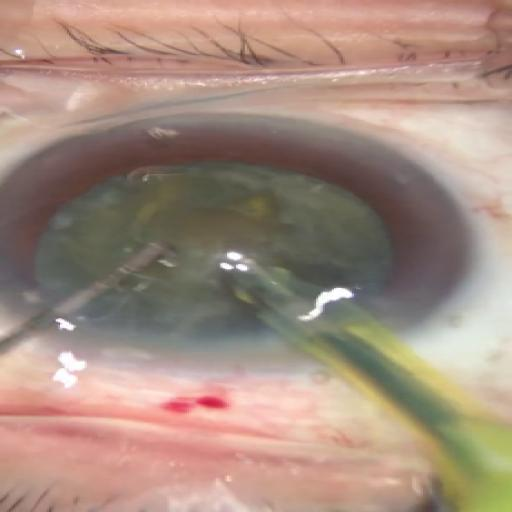catarata: (46, 163, 380, 339)
cornea: (0, 111, 462, 362)
pupil: (38, 160, 396, 346)
